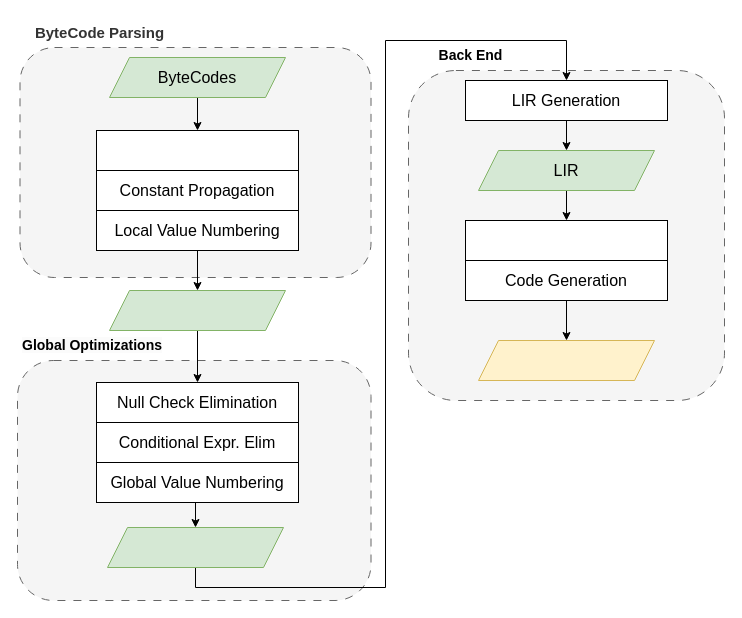
Some shapes in this 742 by 618 pixel diagram are drawn without their labels. The centre of each missing label's shape, as x and y in pixels:
HIR（SSA Form）: point (197, 310)
Matchine Code: point (566, 360)
Method Inlining: point (197, 150)
Optimized HIR: point (195, 547)
Register Allocation: point (566, 240)
